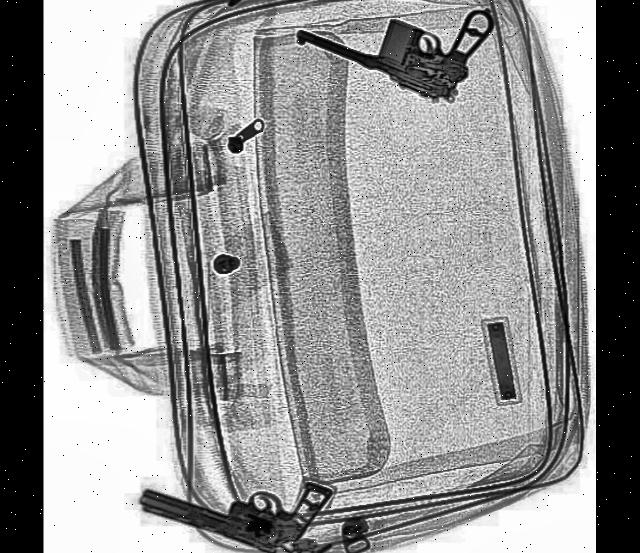Gun: (136, 432, 331, 553), (290, 0, 482, 112)
